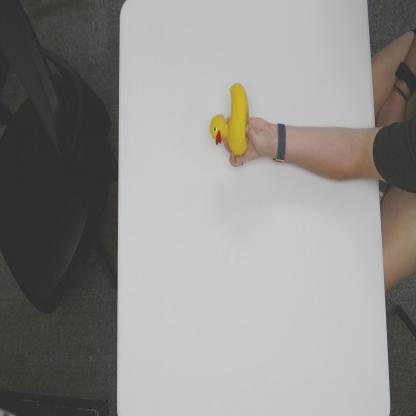Arm: (287, 123, 380, 183)
Duck: (207, 78, 251, 155)
Hand: (224, 113, 273, 168)
